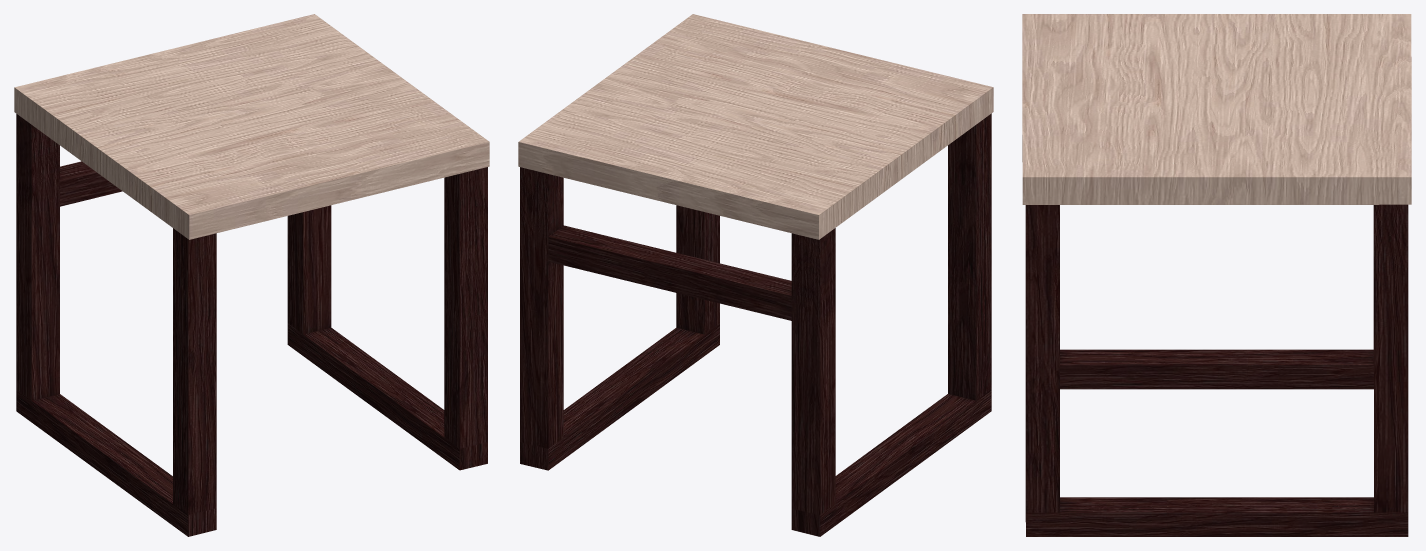
File: frl_apartment_stool_02.glb
The picture shows the model from 3 angles, left to right: view 1: azimuth 30°, elevation 25°; view 2: azimuth 150°, elevation 25°; view 3: azimuth 270°, elevation 25°; orthographic projection. The views are drawn at different scales.
Parts seen in each view (by area): view 1: frl_apartment_stool_02; view 2: frl_apartment_stool_02; view 3: frl_apartment_stool_02.
Part boxes in pixels (bbox=[...]): frl_apartment_stool_02: bbox=[14, 14, 489, 536]; frl_apartment_stool_02: bbox=[518, 14, 993, 536]; frl_apartment_stool_02: bbox=[1022, 14, 1411, 536].
Bounding box in the file's own units: 0.399 × 0.4096 × 0.4019.
1 material, 1 textured.
